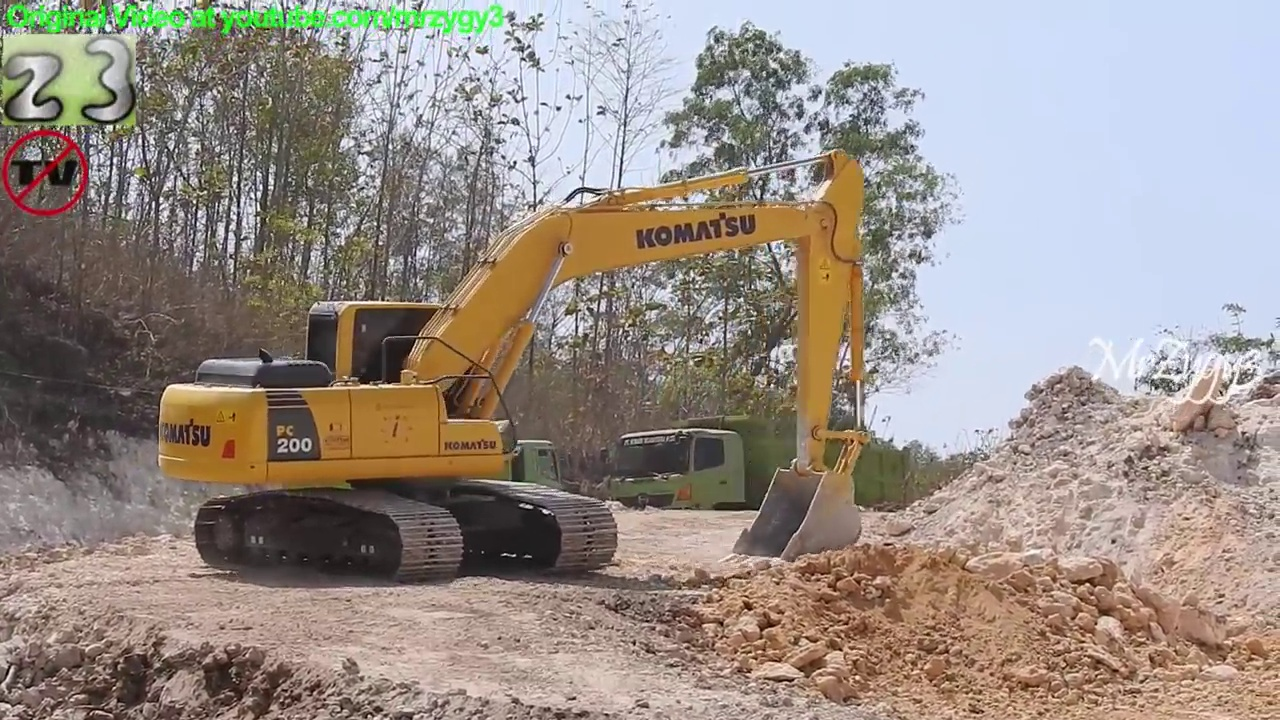excavator: (148, 141, 877, 593)
truck: (593, 414, 912, 544), (296, 434, 569, 562)
